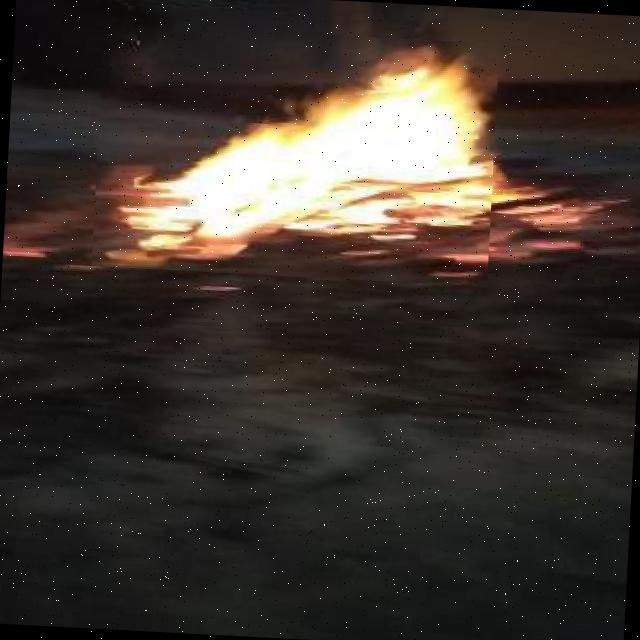fire: (92, 23, 500, 286)
